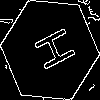H: (25, 25, 77, 77)
